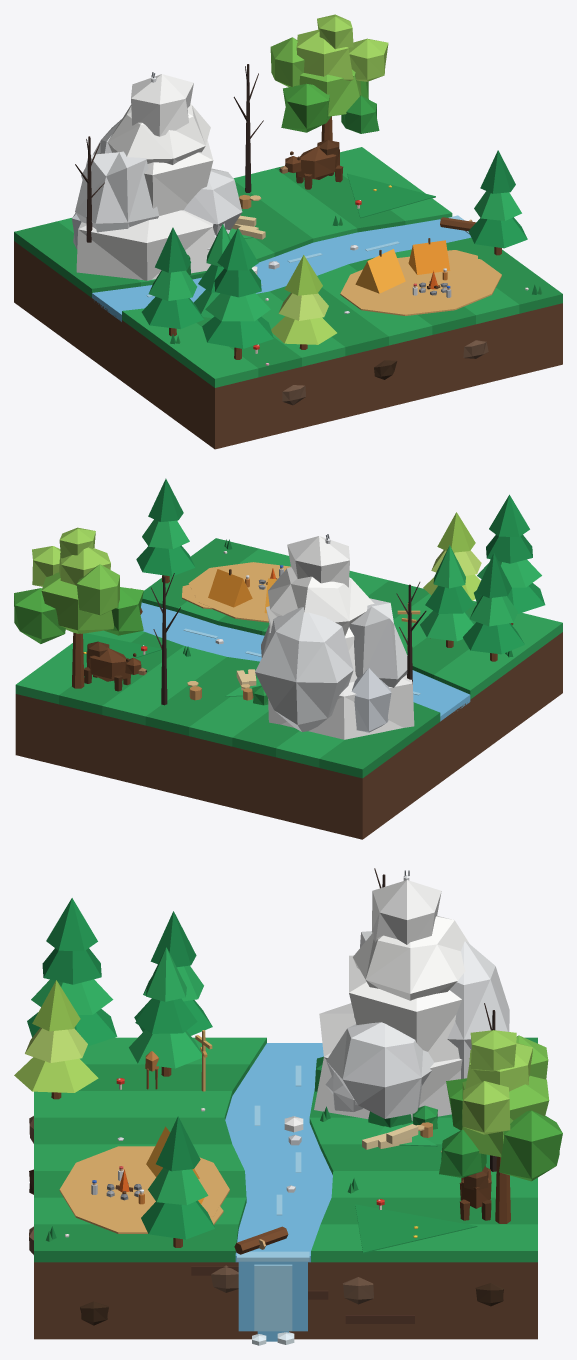
Rendered from island.glb.
3 views of the same model, one above another, from view 1: azimuth 30°, elevation 25°; view 2: azimuth 150°, elevation 25°; view 3: azimuth 270°, elevation 25° (orthographic). The views are drawn at different scales.
Parts seen in each view (by area): view 1: Soil, Mountain Rock 1, Clearing, Mountain Rock 2, Grass Bank Left 1, Grass Bank Right 6, Mountain Rock 4, Grass Bank Right 1, Mountain Rock 5, Mountain Rock 3, Grass Bank Left 8, Grass Bank Right 8 (+40 smaller); view 2: Soil, Mountain Rock 8, Grass Bank Left 1, Mountain Rock 4, Grass Bank Right 6, Mountain Rock 2, Grass Bank Right 1, Grass Bank Right 5, Mountain Rock 1, Clearing, Grass Bank Left 8, Mountain Rock 5 (+43 smaller); view 3: Soil, Mountain Rock 6, Clearing, Grass Bank Right 8, Grass Bank Left 8, Mountain Rock 4, Mountain Rock 3, Grass Bank Left 3, Grass Bank Left 4, Mountain Rock 8, Grass Bank Right 6, Grass Bank Right 7 (+51 smaller).
Part boxes in pixels (x1,y1,x2,y2): Soil: (14,241,562,449); Mountain Rock 1: (76,210,215,280); Clearing: (340,255,501,315); Mountain Rock 2: (75,151,159,232); Grass Bank Left 1: (122,308,258,387); Grass Bank Right 6: (233,168,357,242); Mountain Rock 4: (107,104,210,164); Grass Bank Right 1: (14,221,140,297); Mountain Rock 5: (131,74,193,136); Mountain Rock 3: (144,140,213,215); Grass Bank Left 8: (446,237,562,313); Grass Bank Right 8: (340,147,452,224); Soil: (15,632,562,839); Mountain Rock 8: (255,607,353,731); Grass Bank Left 1: (434,613,562,699); Mountain Rock 4: (268,567,374,635); Grass Bank Right 6: (102,646,226,725); Mountain Rock 2: (349,598,407,687); Grass Bank Right 1: (319,702,440,778); Grass Bank Right 5: (145,657,259,735); Mountain Rock 1: (268,675,414,739); Clearing: (188,562,290,622); Grass Bank Left 8: (142,538,258,611); Mountain Rock 5: (287,536,349,587); Soil: (34,1262,537,1339); Mountain Rock 6: (326,1022,434,1118); Clearing: (59,1146,229,1233); Grass Bank Right 8: (311,1224,537,1262); Grass Bank Left 8: (34,1224,238,1262); Mountain Rock 4: (353,915,469,1000); Mountain Rock 3: (349,955,461,1062); Grass Bank Left 3: (34,1091,232,1119); Grass Bank Left 4: (34,1117,231,1144); Mountain Rock 8: (447,941,509,1078); Grass Bank Right 6: (331,1171,537,1197); Grass Bank Right 7: (321,1197,537,1224).
Bounding box in the file's own units: 17.52 × 10.83 × 17.42.
